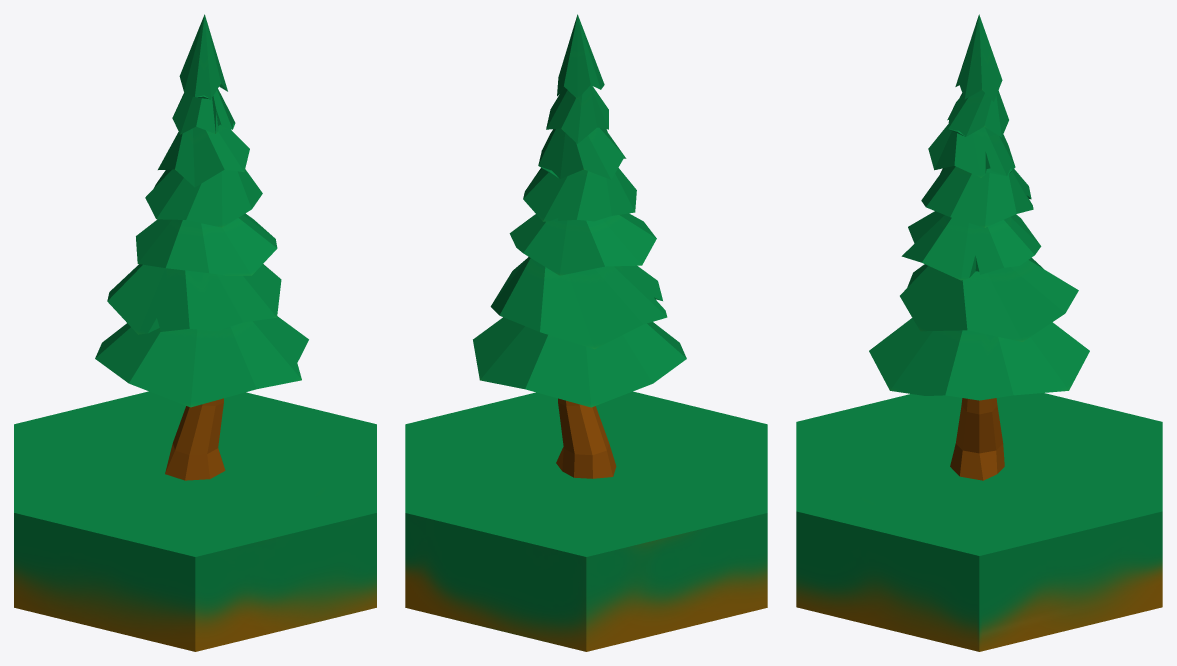
The model's file is tilehex_tree.glb.
3 views of the same model, side by side, from view 1: azimuth 30°, elevation 25°; view 2: azimuth 150°, elevation 25°; view 3: azimuth 270°, elevation 25° (orthographic).
Parts seen in each view (by area): view 1: tile, Cylinder_Material.002_0, Cylinder_Material.001_0; view 2: tile, Cylinder_Material.002_0, Cylinder_Material.001_0; view 3: tile, Cylinder_Material.002_0, Cylinder_Material.001_0.
Part boxes in pixels (bbox=[...]): tile: bbox=[14, 391, 376, 651]; Cylinder_Material.002_0: bbox=[95, 14, 308, 407]; Cylinder_Material.001_0: bbox=[165, 398, 225, 480]; tile: bbox=[405, 391, 767, 651]; Cylinder_Material.002_0: bbox=[473, 14, 686, 407]; Cylinder_Material.001_0: bbox=[556, 398, 616, 478]; tile: bbox=[796, 393, 1162, 651]; Cylinder_Material.002_0: bbox=[869, 14, 1089, 400]; Cylinder_Material.001_0: bbox=[950, 398, 1004, 480].
Bounding box in the file's own units: 0.2 × 0.2883 × 0.1732.
3 materials, 3 textured.
